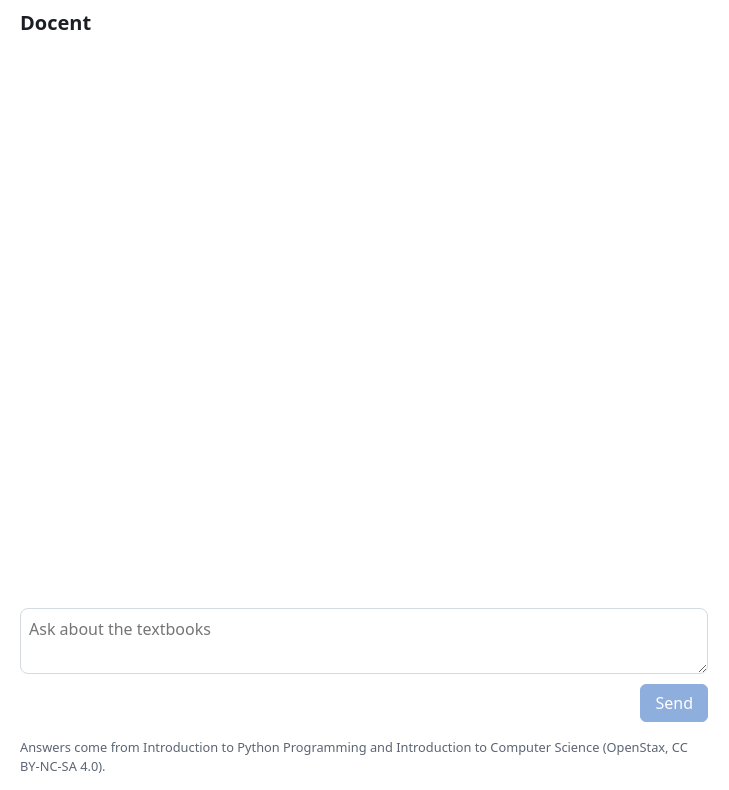
it: retry › retries after upstream_error
Type "How does precedence work?" into the text box named "Question" at point(364, 641), box left=20, top=608, right=708, bottom=674
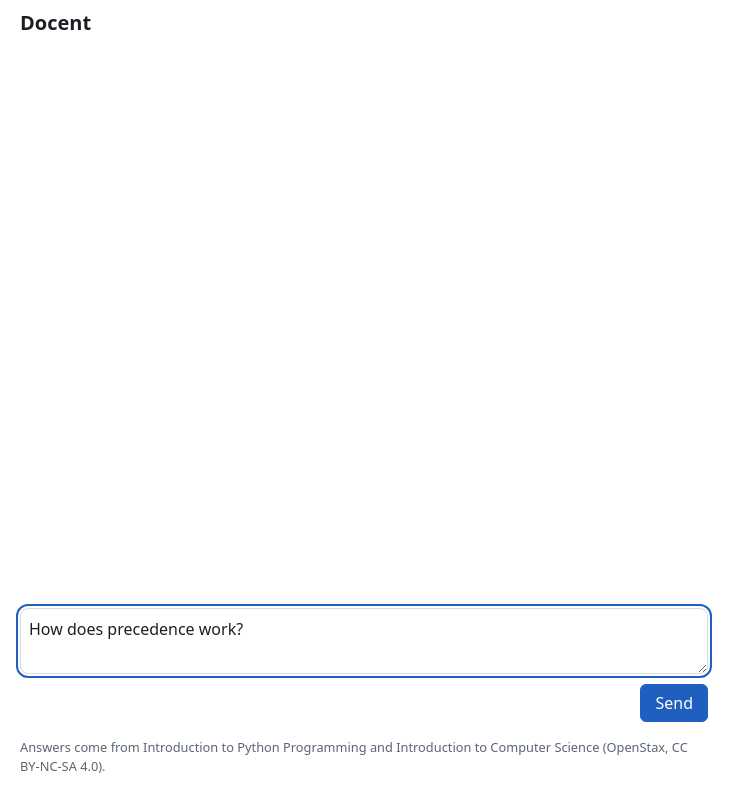
Press Enter
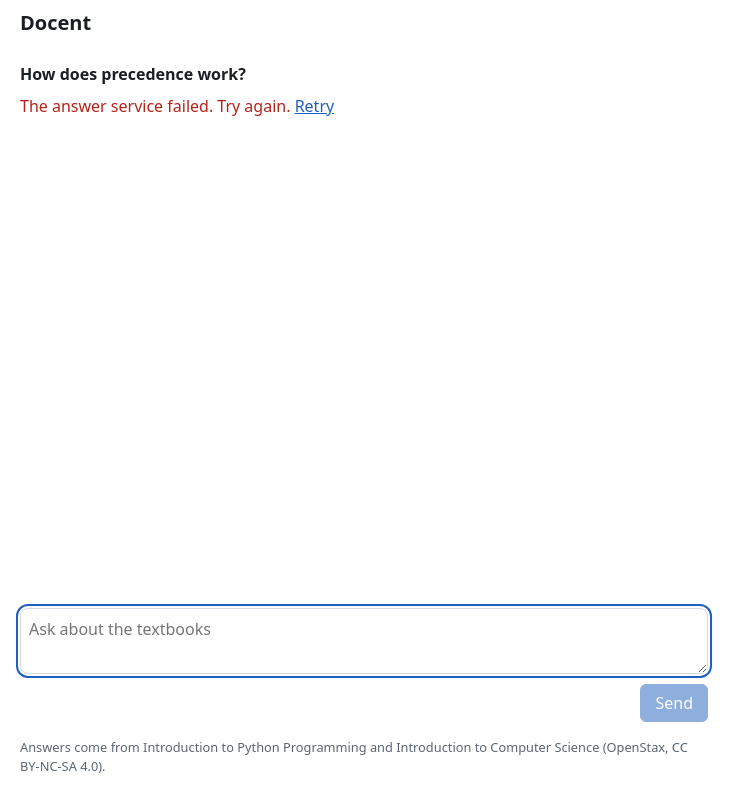
Click the button "Retry" at point(314, 106), box left=295, top=94, right=334, bottom=118
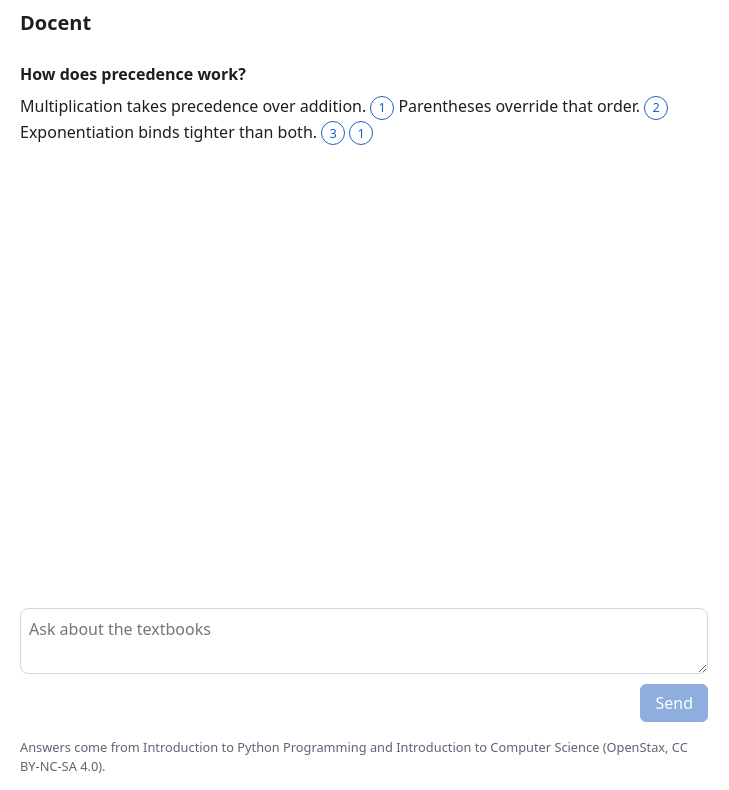
Expected: the number of buttons named "Source 1:" is 2, left=370, top=96, right=394, bottom=120; left=349, top=121, right=373, bottom=145
